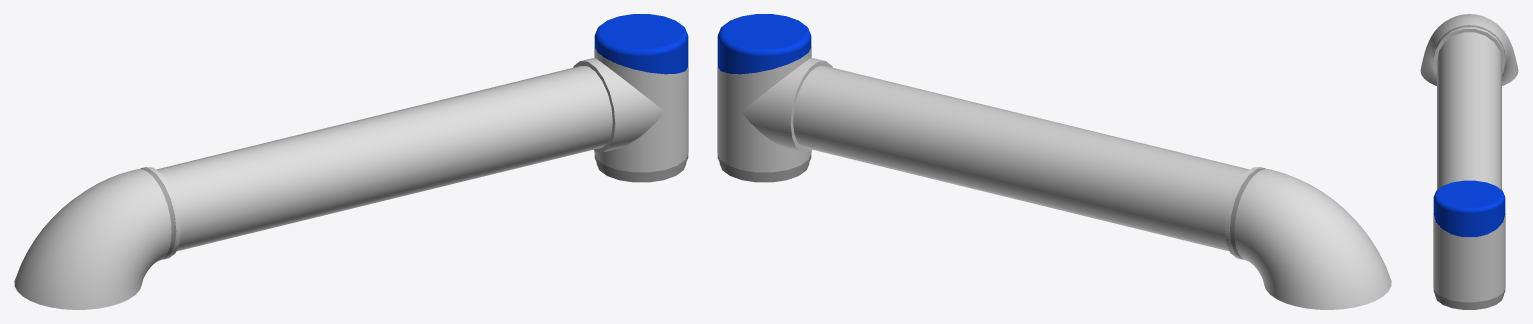
The picture shows the model from 3 angles, left to right: view 1: azimuth 30°, elevation 25°; view 2: azimuth 150°, elevation 25°; view 3: azimuth 270°, elevation 25°; orthographic projection. The views are drawn at different scales.
Parts seen in each view (by area): view 1: NONE; view 2: NONE; view 3: NONE.
Boxes of the visible parts, x1,y1,x2,y2 form: NONE: [14, 14, 688, 309]; NONE: [717, 14, 1391, 309]; NONE: [1420, 14, 1518, 309].
Bounding box in the file's own units: 0.7023 × 0.118 × 0.1345.
